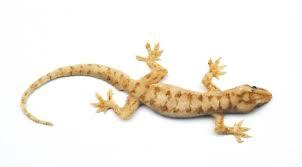lizard: (16, 42, 273, 142)
